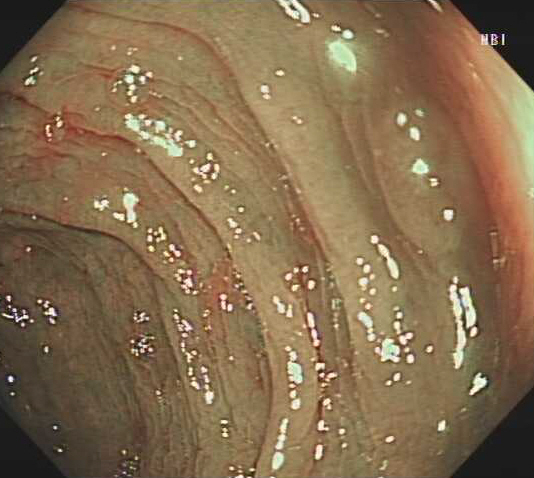others: (364, 89, 488, 282)
